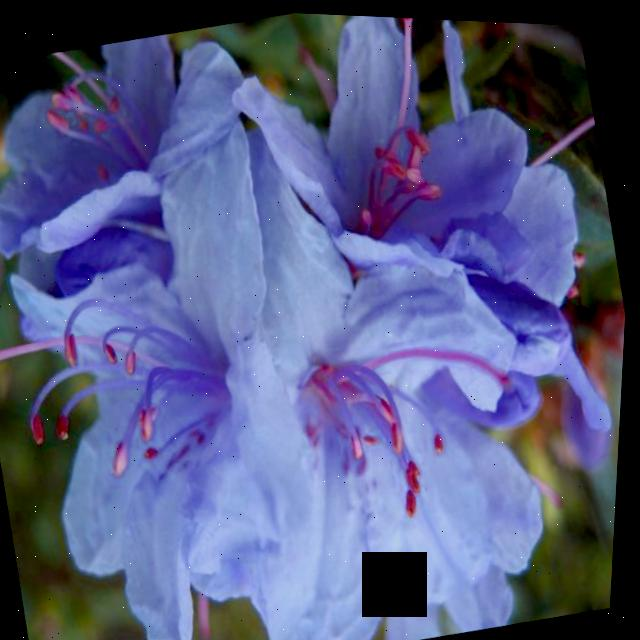azalea: (0, 162, 353, 630), (206, 231, 569, 640), (227, 8, 614, 384)
